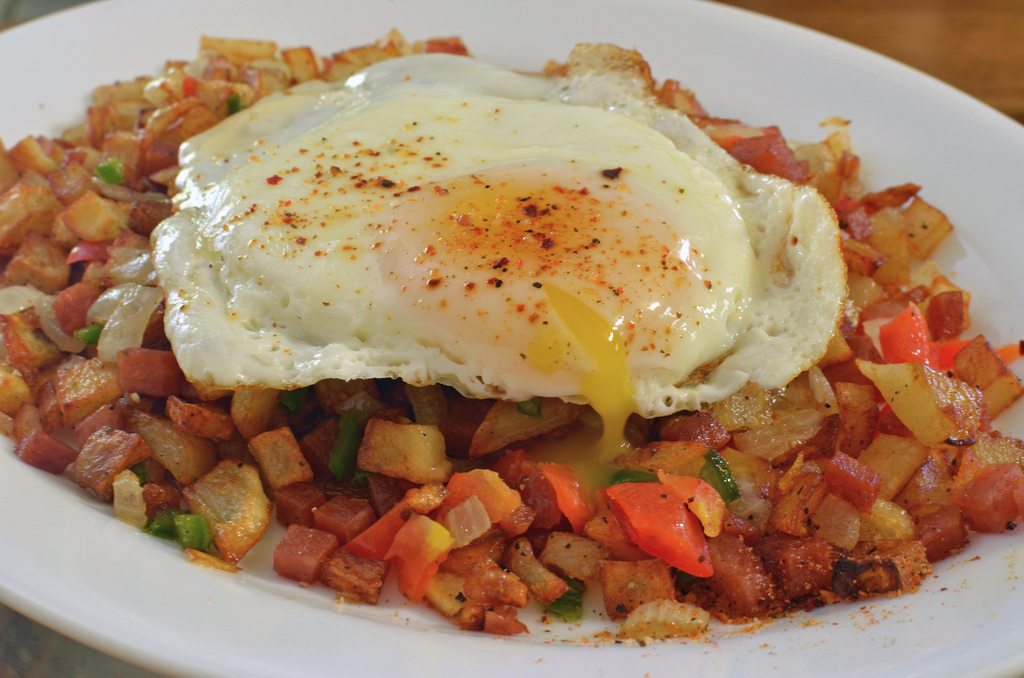fried egg: (173, 75, 820, 405)
